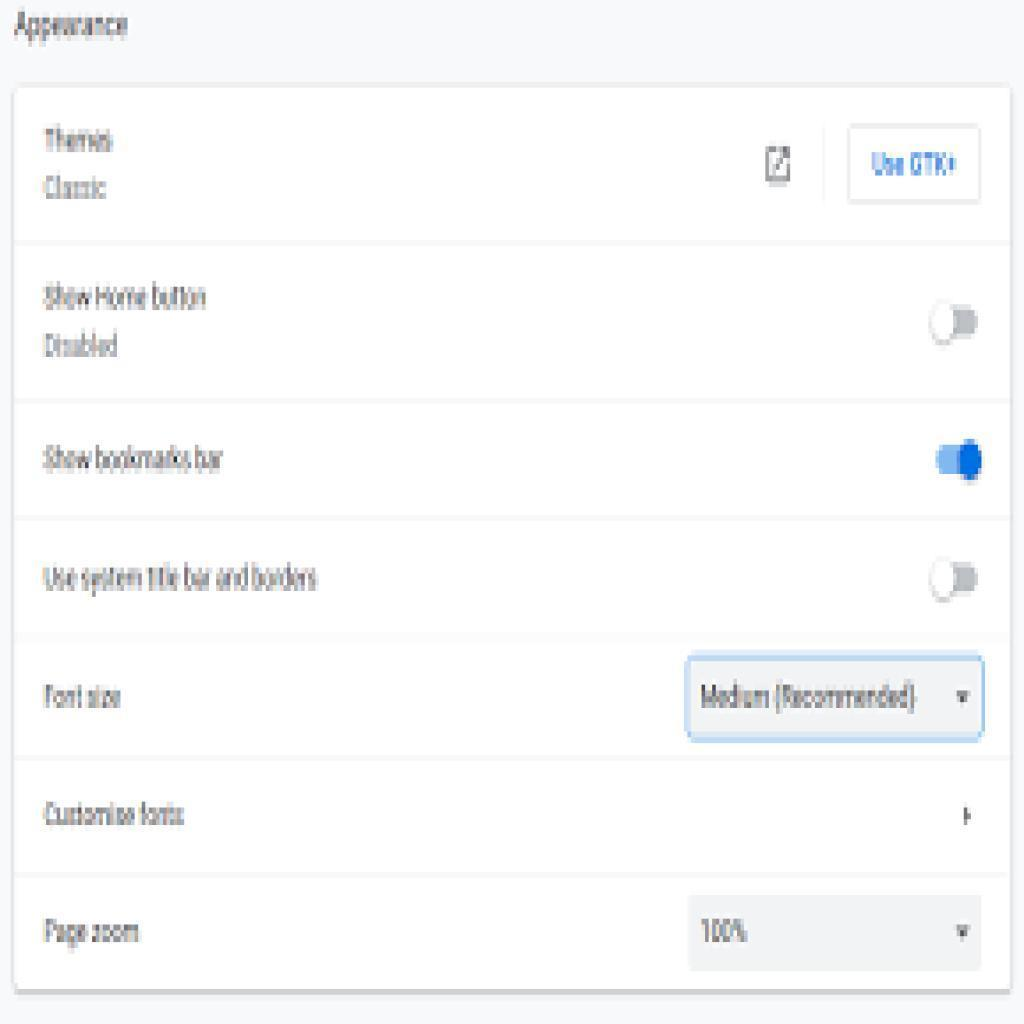button: (847, 124, 983, 201)
dropdown: (690, 892, 980, 972), (692, 659, 982, 738)
icon: (762, 139, 800, 188), (957, 799, 984, 836)
label: (41, 279, 216, 365), (40, 561, 324, 609), (42, 437, 231, 478), (40, 121, 123, 210), (43, 800, 191, 834), (45, 907, 147, 952), (45, 674, 131, 718)
switch: (929, 437, 987, 494), (927, 296, 980, 353), (928, 555, 979, 606)
